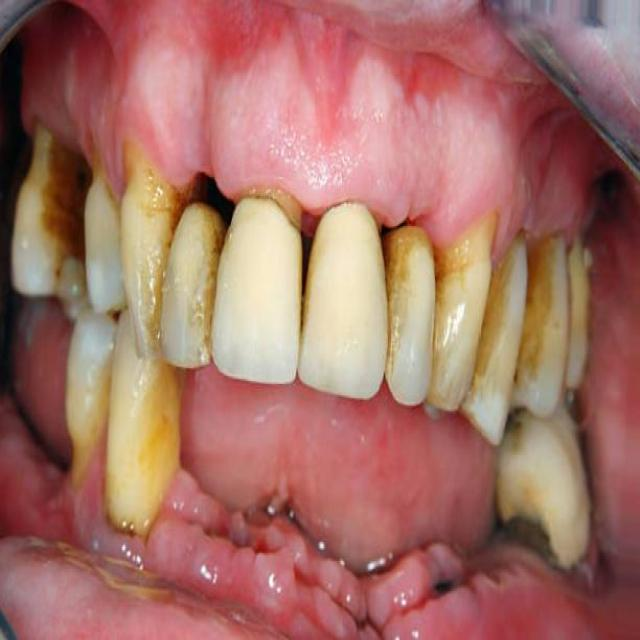caries: (499, 476, 553, 581)
